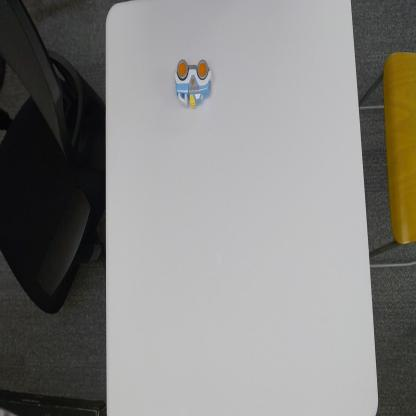Car: (174, 56, 214, 110)
